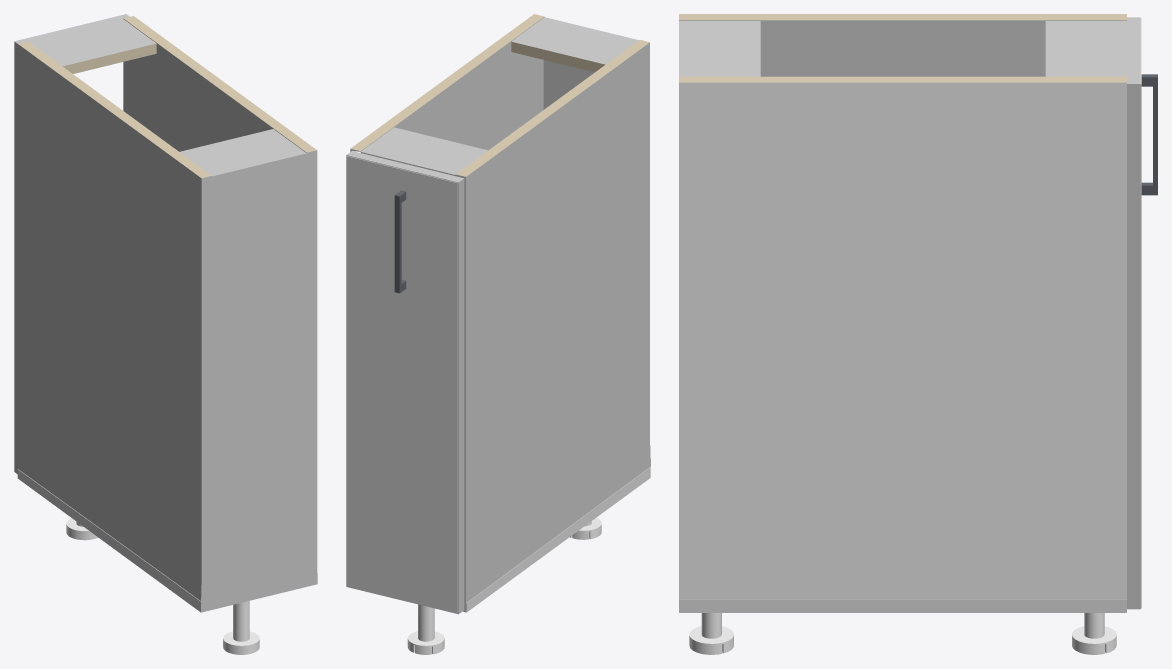
File: fioke_flase_20cm.glb
3 renders of one model, left to right at view 1: azimuth 30°, elevation 25°; view 2: azimuth 150°, elevation 25°; view 3: azimuth 270°, elevation 25°, orthographic. The views are drawn at different scales.
Visible parts, largest first — view 1: Group1, Group2; view 2: Group1, Group2; view 3: Group1, Group2.
Part boxes in pixels (bbox=[...]): Group1: bbox=[14, 14, 317, 612]; Group2: bbox=[66, 518, 259, 654]; Group1: bbox=[346, 14, 650, 614]; Group2: bbox=[407, 517, 601, 654]; Group1: bbox=[679, 14, 1157, 612]; Group2: bbox=[689, 613, 1116, 654].
Size of the model in its own units: 202 by 813 by 588.
